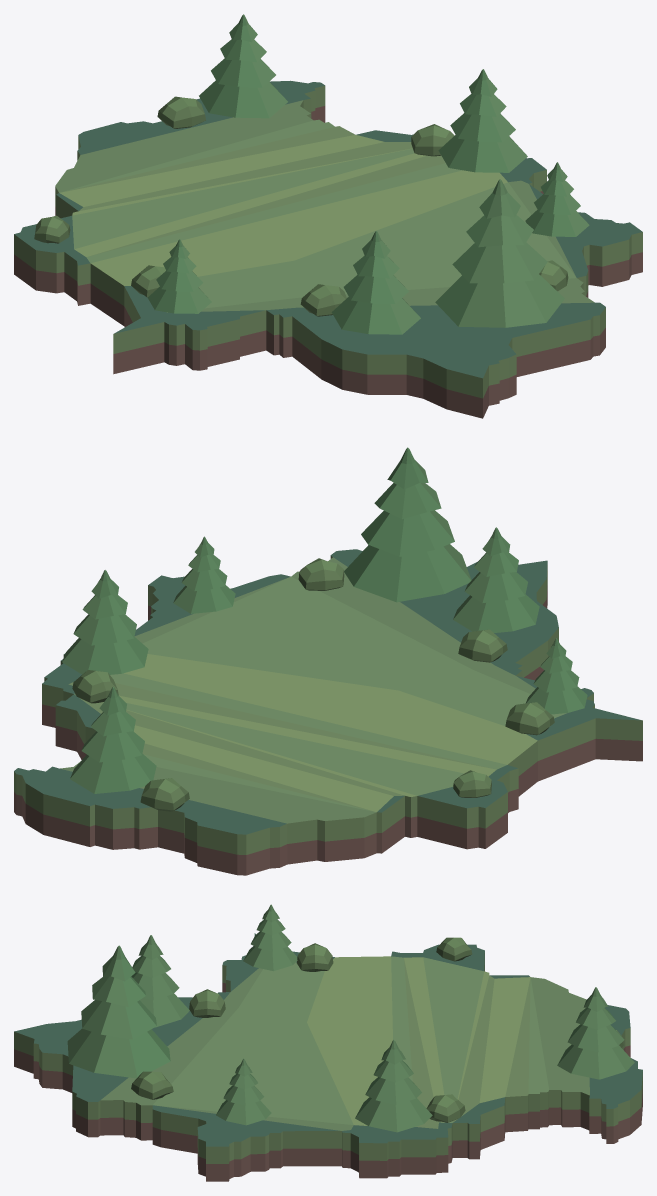
File: handiga.gltf
The picture shows the model from 3 angles, top to bottom: view 1: azimuth 30°, elevation 25°; view 2: azimuth 150°, elevation 25°; view 3: azimuth 270°, elevation 25°; orthographic projection. The views are drawn at different scales.
Parts seen in each view (by area): view 1: хандыга; view 2: хандыга; view 3: хандыга.
Part boxes in pixels (x1,y1,x2,y2): хандыга: [14, 14, 642, 418]; хандыга: [14, 447, 642, 875]; хандыга: [14, 904, 642, 1181].
Bounding box in the file's own units: 2.03 × 0.685 × 2.53.
